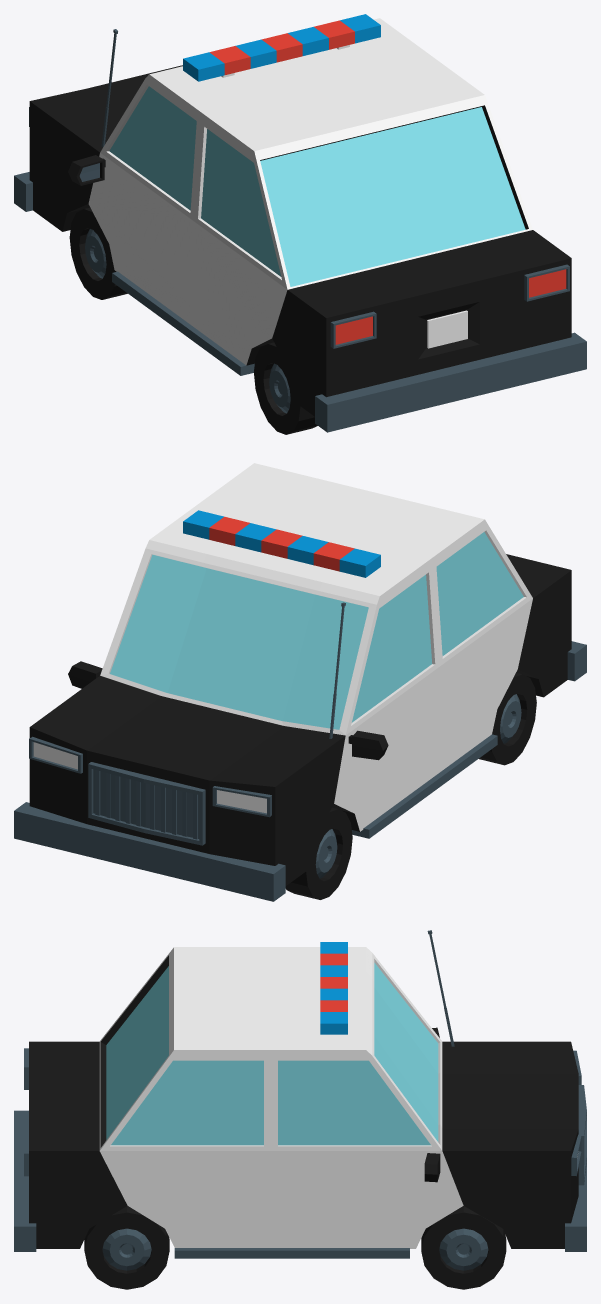
Rendered from PoliceCar.glb.
3 renders of one model, top to bottom at view 1: azimuth 30°, elevation 25°; view 2: azimuth 150°, elevation 25°; view 3: azimuth 270°, elevation 25°, orthographic. The views are drawn at different scales.
Parts seen in each view (by area): view 1: Police_Car_Cube.025; view 2: Police_Car_Cube.025; view 3: Police_Car_Cube.025.
Boxes of the visible parts, bbox=[...] form: Police_Car_Cube.025: bbox=[14, 14, 586, 434]; Police_Car_Cube.025: bbox=[14, 463, 586, 901]; Police_Car_Cube.025: bbox=[14, 930, 586, 1289].
Bounding box in the file's own units: 12.58 × 10.66 × 21.67.
